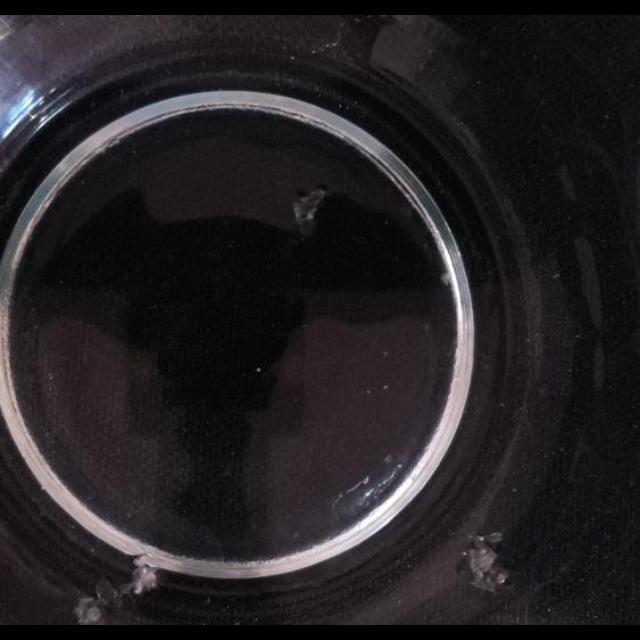Fibre: (73, 558, 154, 624), (456, 530, 512, 594), (290, 188, 328, 235), (74, 596, 106, 624)
microbeads: (256, 367, 262, 373)
